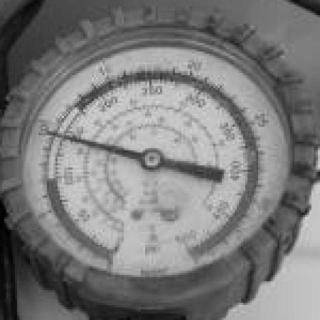gauge: (0, 0, 320, 314), (168, 234, 214, 274), (97, 242, 131, 272), (142, 146, 165, 171), (38, 126, 58, 140)
